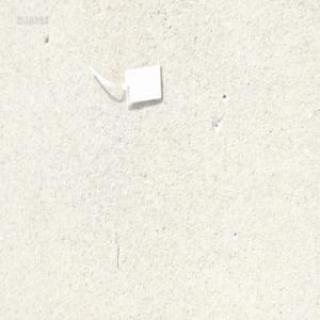LuggageTagtrack_idkeyframe: (86, 59, 164, 108)
